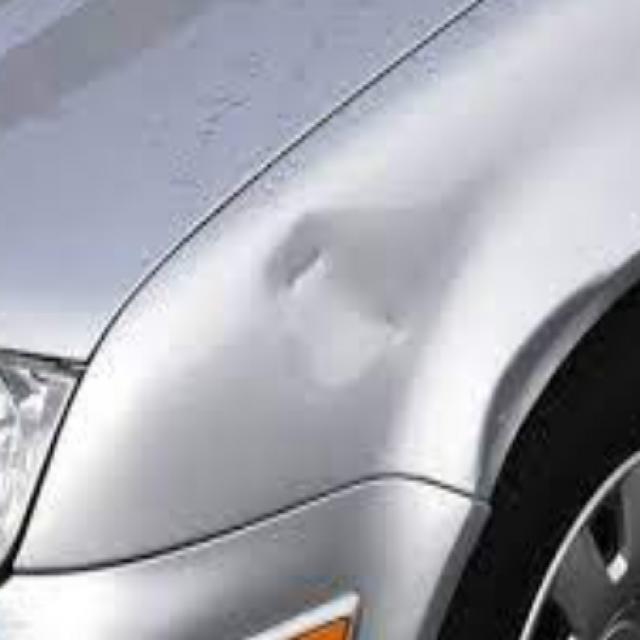dents: (272, 186, 453, 399)
